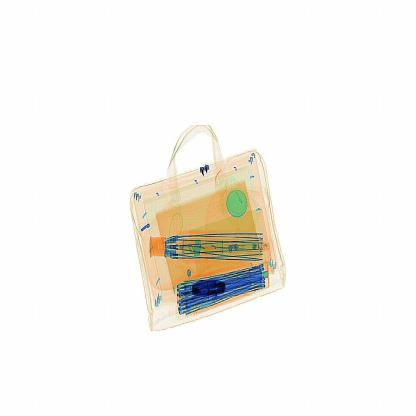scissors: (193, 280, 229, 302)
